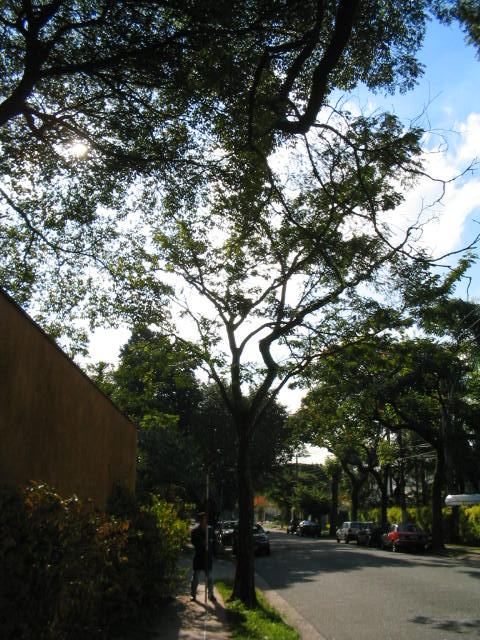crown: (82, 117, 471, 397)
stem: (217, 417, 275, 606), (422, 446, 456, 549)
stick: (197, 450, 221, 602)
tree: (78, 115, 473, 607), (361, 299, 478, 548)
